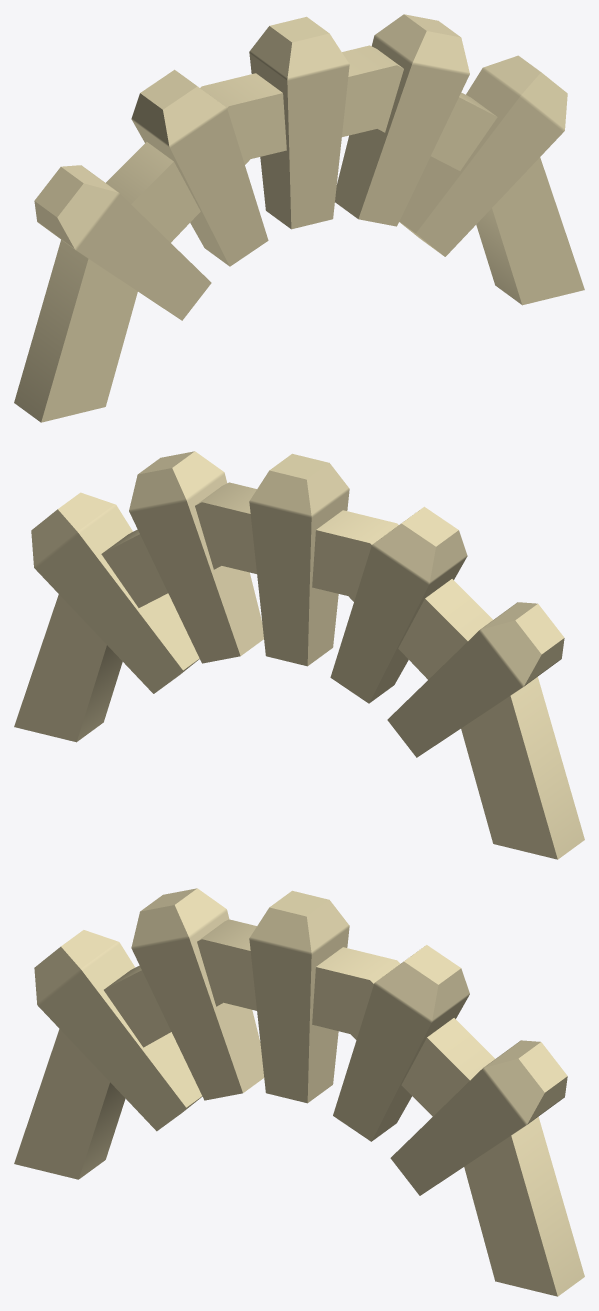
Rendered from roundFence.fbx.
3 renders of one model, top to bottom at view 1: azimuth 30°, elevation 25°; view 2: azimuth 150°, elevation 25°; view 3: azimuth 330°, elevation 25°, orthographic.
Visible parts, largest first — view 1: Fence; view 2: Fence; view 3: Fence.
Part boxes in pixels (<box>): Fence: <box>14,14,584,422</box>; Fence: <box>14,451,584,859</box>; Fence: <box>14,888,584,1296</box>.
Bounding box in the file's own units: 2.4 × 1.34 × 0.2908.
